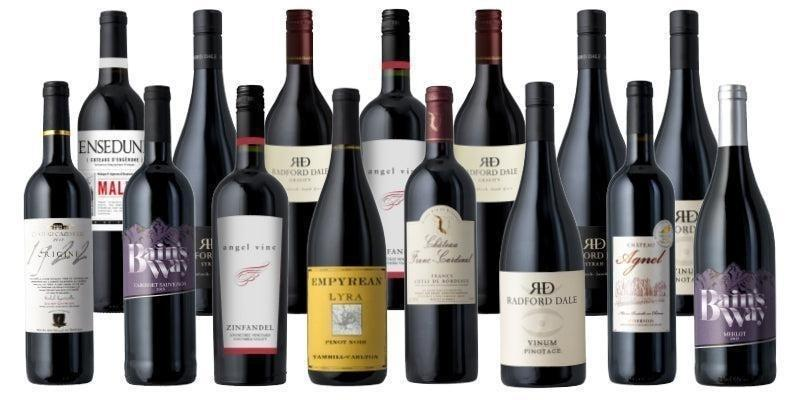bottle-glass: (493, 78, 591, 388), (690, 80, 780, 391), (206, 81, 294, 390), (302, 87, 392, 387), (399, 80, 484, 387), (117, 81, 201, 389), (17, 76, 99, 387), (447, 2, 529, 312), (646, 5, 725, 322), (550, 7, 628, 322), (602, 78, 681, 388), (71, 6, 149, 314), (356, 7, 431, 317), (170, 5, 243, 316), (260, 4, 338, 280)
